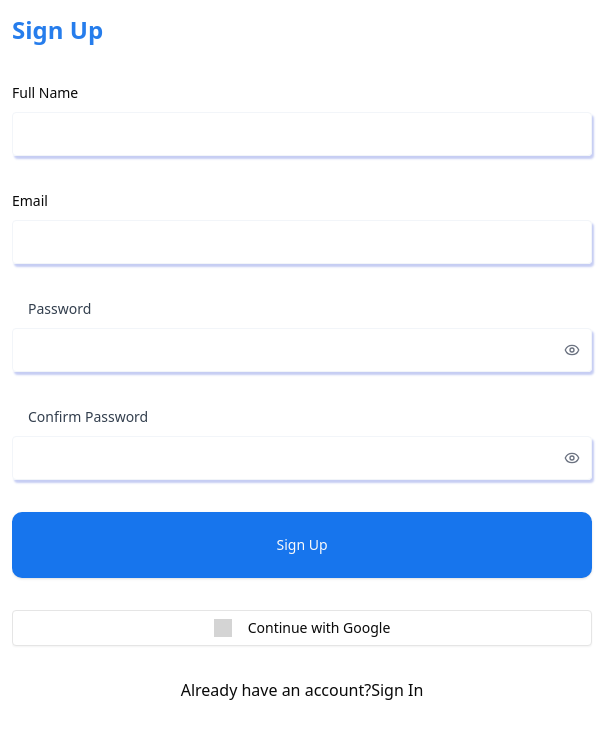
Test: AuthForm – Sign Up › validates password mismatch
In the field labelled "Full Name": [302, 134] box 12,112 -> 592,156, type "John"
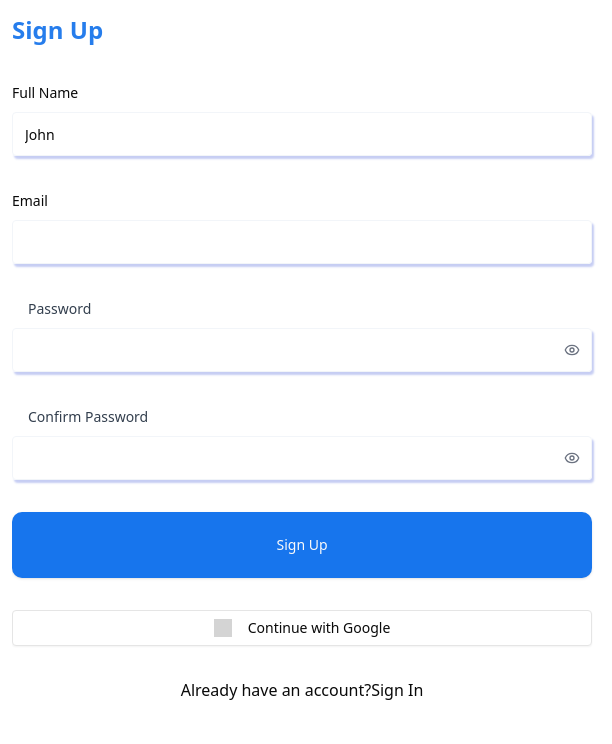
In the field labelled "Email": [302, 242] box 12,220 -> 592,264, type "test@mail.com"
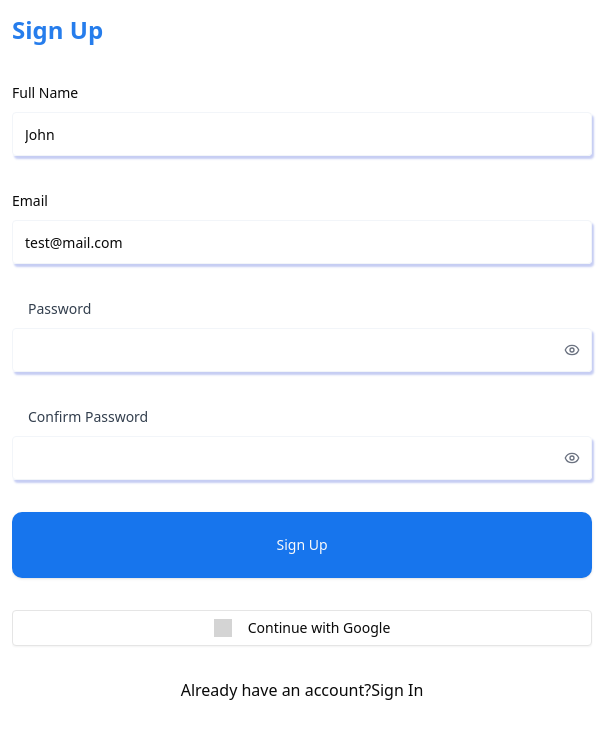
In the 1st password field named "password": [302, 350] box 12,328 -> 592,372, type "Password1"
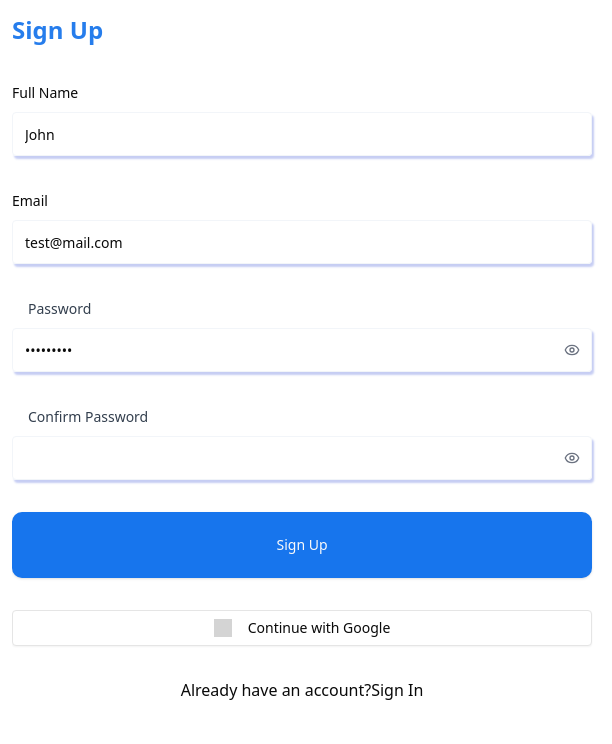
In the password field named "confirmPassword" below "Confirm Password": [302, 458] box 12,436 -> 592,480, type "Password2"
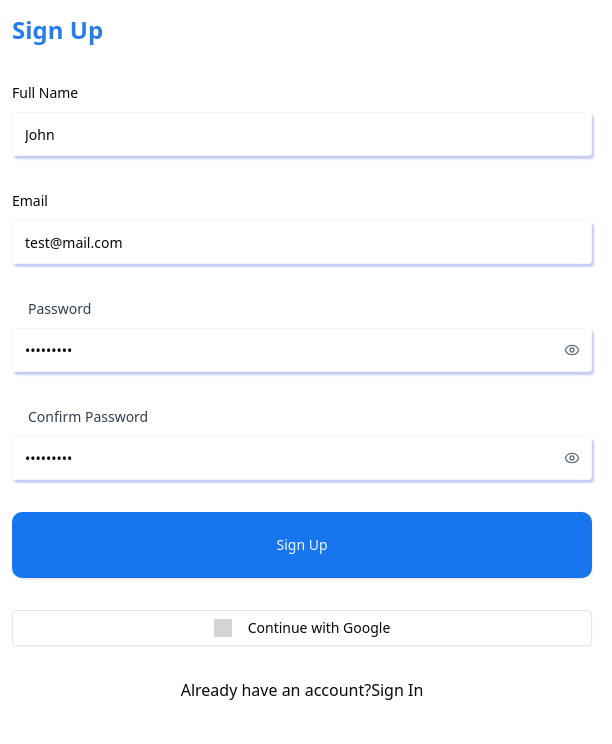
Click the button "Sign Up": [302, 545] box 12,512 -> 592,578
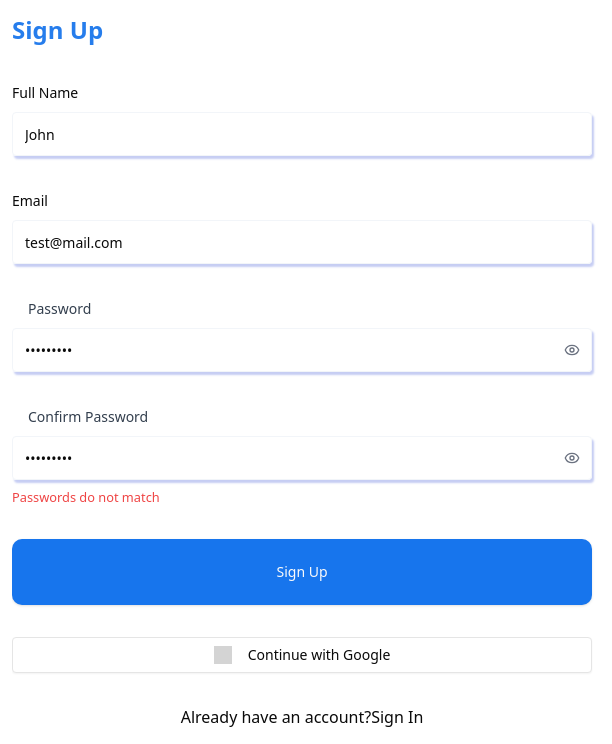
Expected: the text "Passwords do not match" is shown, 12,488 -> 160,506
